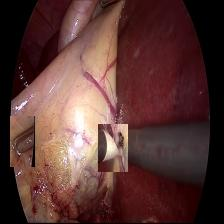Grasper: (10, 116, 35, 167)
Hook: (98, 124, 128, 172)
